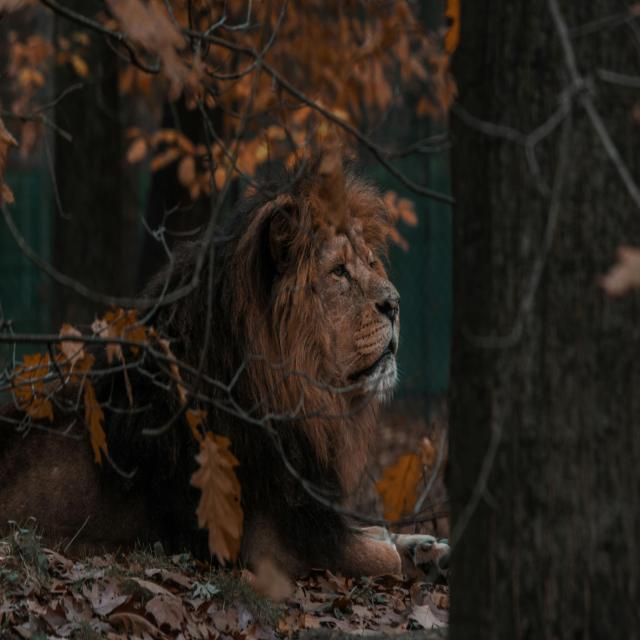Lion: (1, 142, 453, 582)
